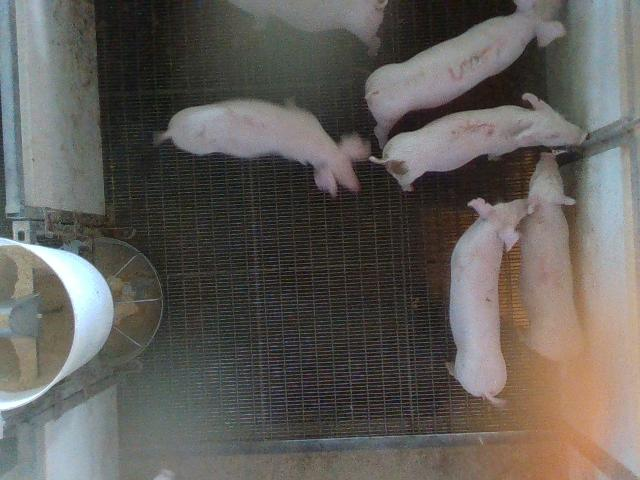pig-3: (365, 0, 565, 147)
pig-4: (519, 152, 582, 361)
pig-5: (370, 94, 586, 191)
